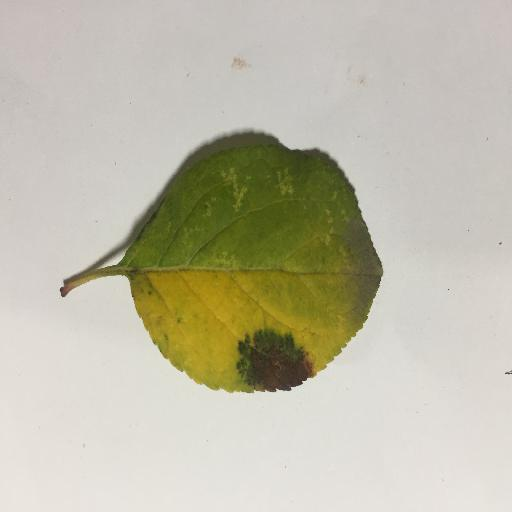Brown_Spot: (222, 326, 312, 388)
